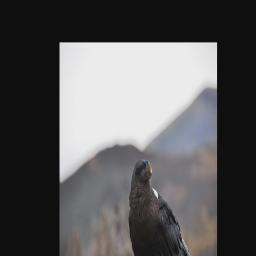Crow: (127, 153, 194, 256)
